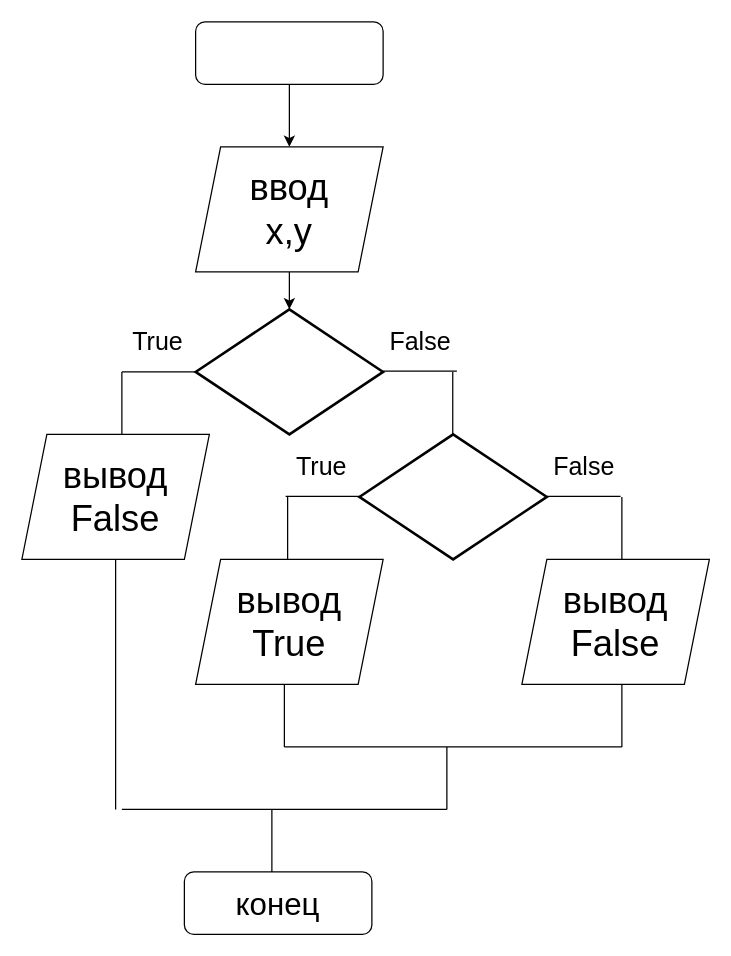
Image size: 731x956. Some labels were removed from this diagram. Here are the shapes that lost their labels. From the top down, the box of each, then its label:
(194, 21, 383, 84): начало
(194, 308, 384, 435): x < 0 или x > 4 или y < 0 или y > 2
(358, 432, 548, 560): y <= 0.5x
